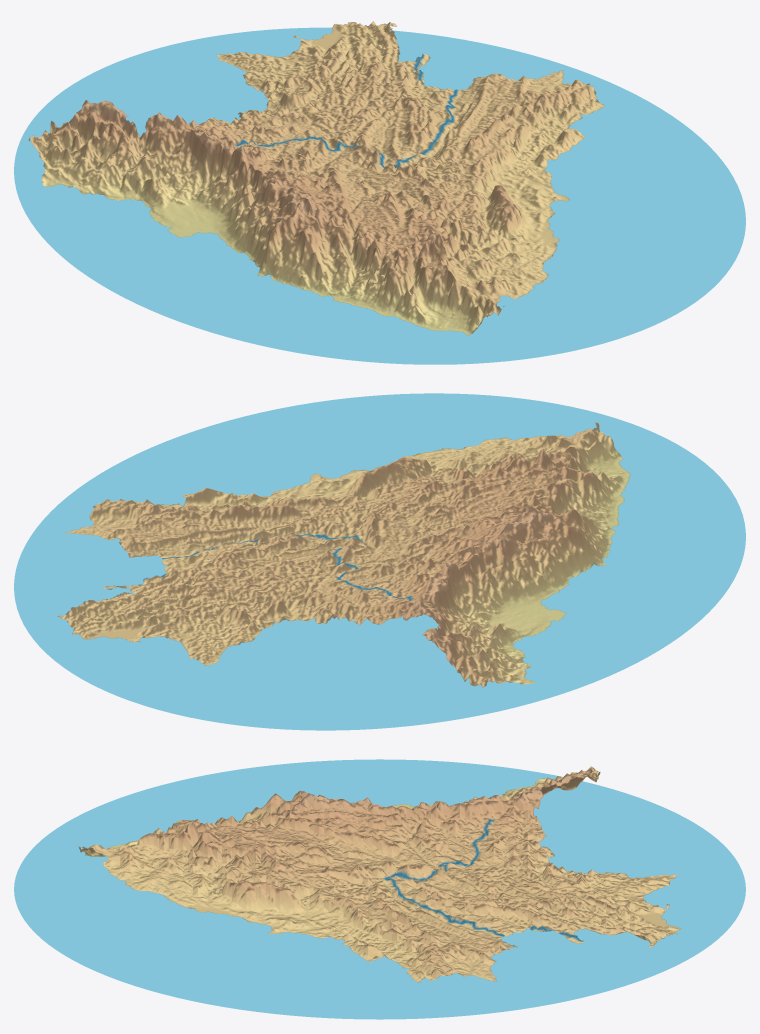
Rendered from BDI-terrain.glb.
3 renders of one model, top to bottom at view 1: azimuth 30°, elevation 25°; view 2: azimuth 150°, elevation 25°; view 3: azimuth 270°, elevation 25°, orthographic. The views are drawn at different scales.
Visible parts, largest first — view 1: Relevo com hidrografia; view 2: Relevo com hidrografia; view 3: Relevo com hidrografia.
Boxes of the visible parts, box(x1,y1,x2,y2) form: Relevo com hidrografia: box(14, 21, 745, 364); Relevo com hidrografia: box(14, 393, 745, 730); Relevo com hidrografia: box(14, 759, 745, 1019).
Size of the model in its own units: 1.64 by 0.1402 by 1.96.
Materials: 2 (1 with a texture image).
